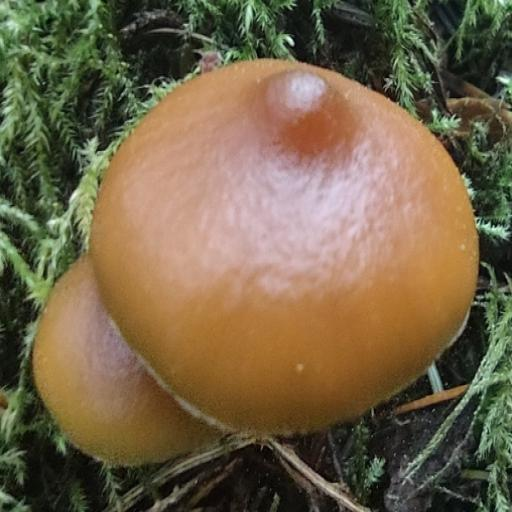mushroom: (36, 62, 479, 450)
